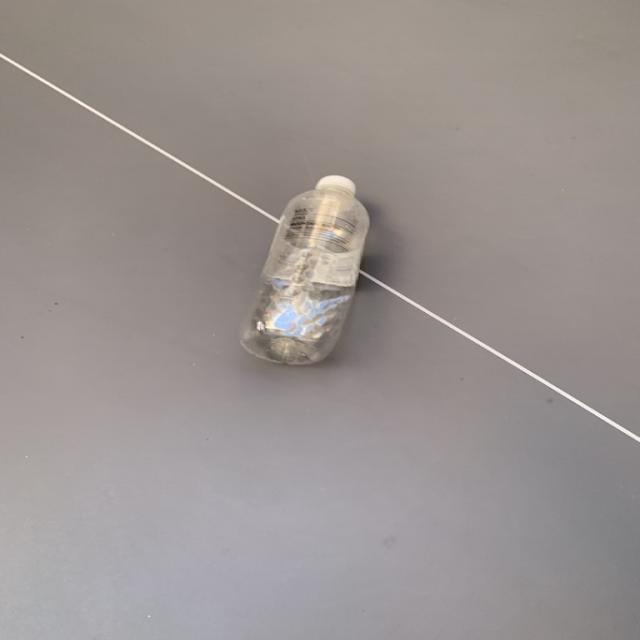Waste: (241, 175, 370, 365)
